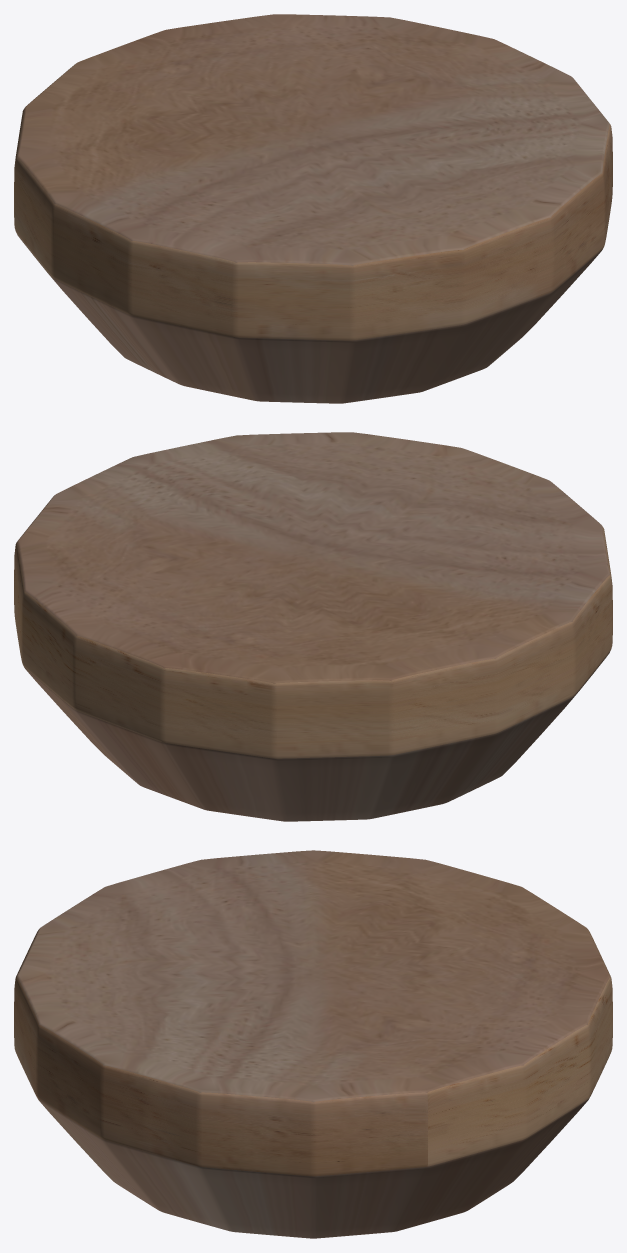
The picture shows the model from 3 angles, top to bottom: view 1: azimuth 30°, elevation 25°; view 2: azimuth 150°, elevation 25°; view 3: azimuth 270°, elevation 25°; orthographic projection.
Parts seen in each view (by area): view 1: pCylinder2; view 2: pCylinder2; view 3: pCylinder2.
Part boxes in pixels (<box>): pCylinder2: <box>14,14,612,403</box>; pCylinder2: <box>14,432,612,821</box>; pCylinder2: <box>14,850,612,1238</box>.
Bounding box in the file's own units: 0.1396 × 0.0456 × 0.1396.
1 material, 1 textured.
